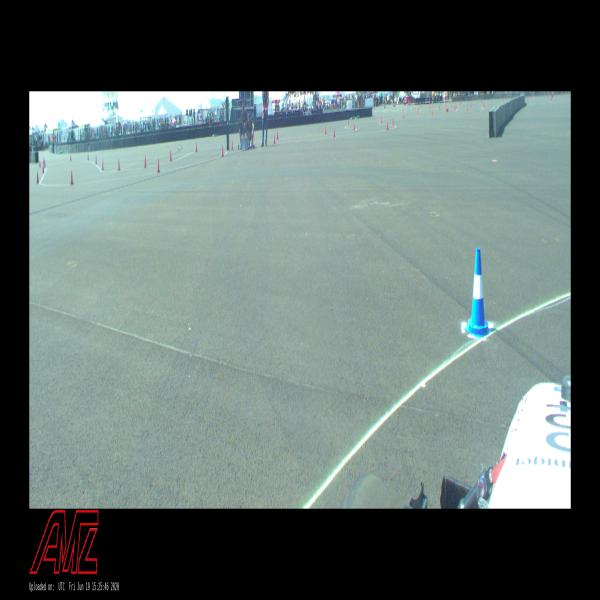blue_cone: (464, 248, 490, 338)
unknown_cone: (70, 170, 74, 185), (36, 171, 40, 184), (157, 158, 160, 172), (144, 155, 147, 168), (221, 144, 224, 157), (169, 150, 172, 162), (118, 159, 120, 170), (274, 134, 276, 144)
